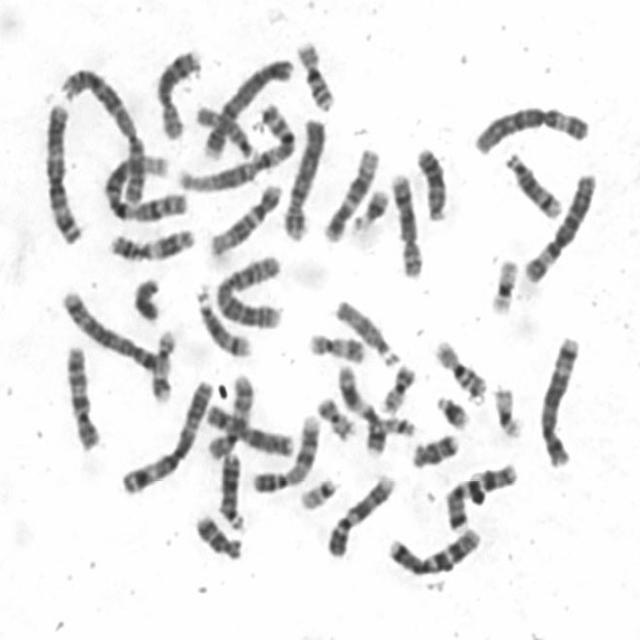A1: (172, 96, 298, 194), (98, 146, 192, 224)
A2: (56, 59, 150, 206), (211, 247, 286, 330)
A3: (116, 372, 217, 496), (39, 95, 86, 246)
B4: (198, 49, 296, 161), (280, 110, 330, 242)
B5: (56, 283, 171, 375), (536, 328, 584, 470)
C10: (201, 367, 257, 461), (60, 337, 104, 452)
C11: (332, 357, 388, 456), (104, 220, 198, 264)
C12: (319, 139, 383, 244), (206, 176, 286, 256)
C6: (519, 164, 601, 286), (469, 97, 593, 157)
C7: (439, 456, 522, 532), (382, 520, 485, 578)
C8: (151, 41, 204, 141), (386, 166, 426, 280)
C9: (322, 468, 398, 559), (248, 406, 324, 495)
D13: (412, 138, 452, 222), (215, 444, 247, 532)
D14: (192, 280, 256, 359), (500, 146, 566, 220)
D15: (329, 292, 404, 367), (190, 97, 260, 161)
E16: (429, 332, 490, 400), (291, 32, 338, 113)
E17: (146, 323, 178, 405), (303, 326, 368, 364)
E18: (191, 507, 246, 562), (407, 426, 462, 470)
F19: (488, 377, 528, 440), (486, 250, 522, 316)
F20: (376, 357, 419, 415), (312, 389, 359, 442)
G21: (347, 181, 393, 233), (431, 387, 473, 431)
G22: (295, 470, 340, 512), (374, 409, 418, 438)
X: (201, 397, 297, 458)
Y: (128, 269, 164, 322)
